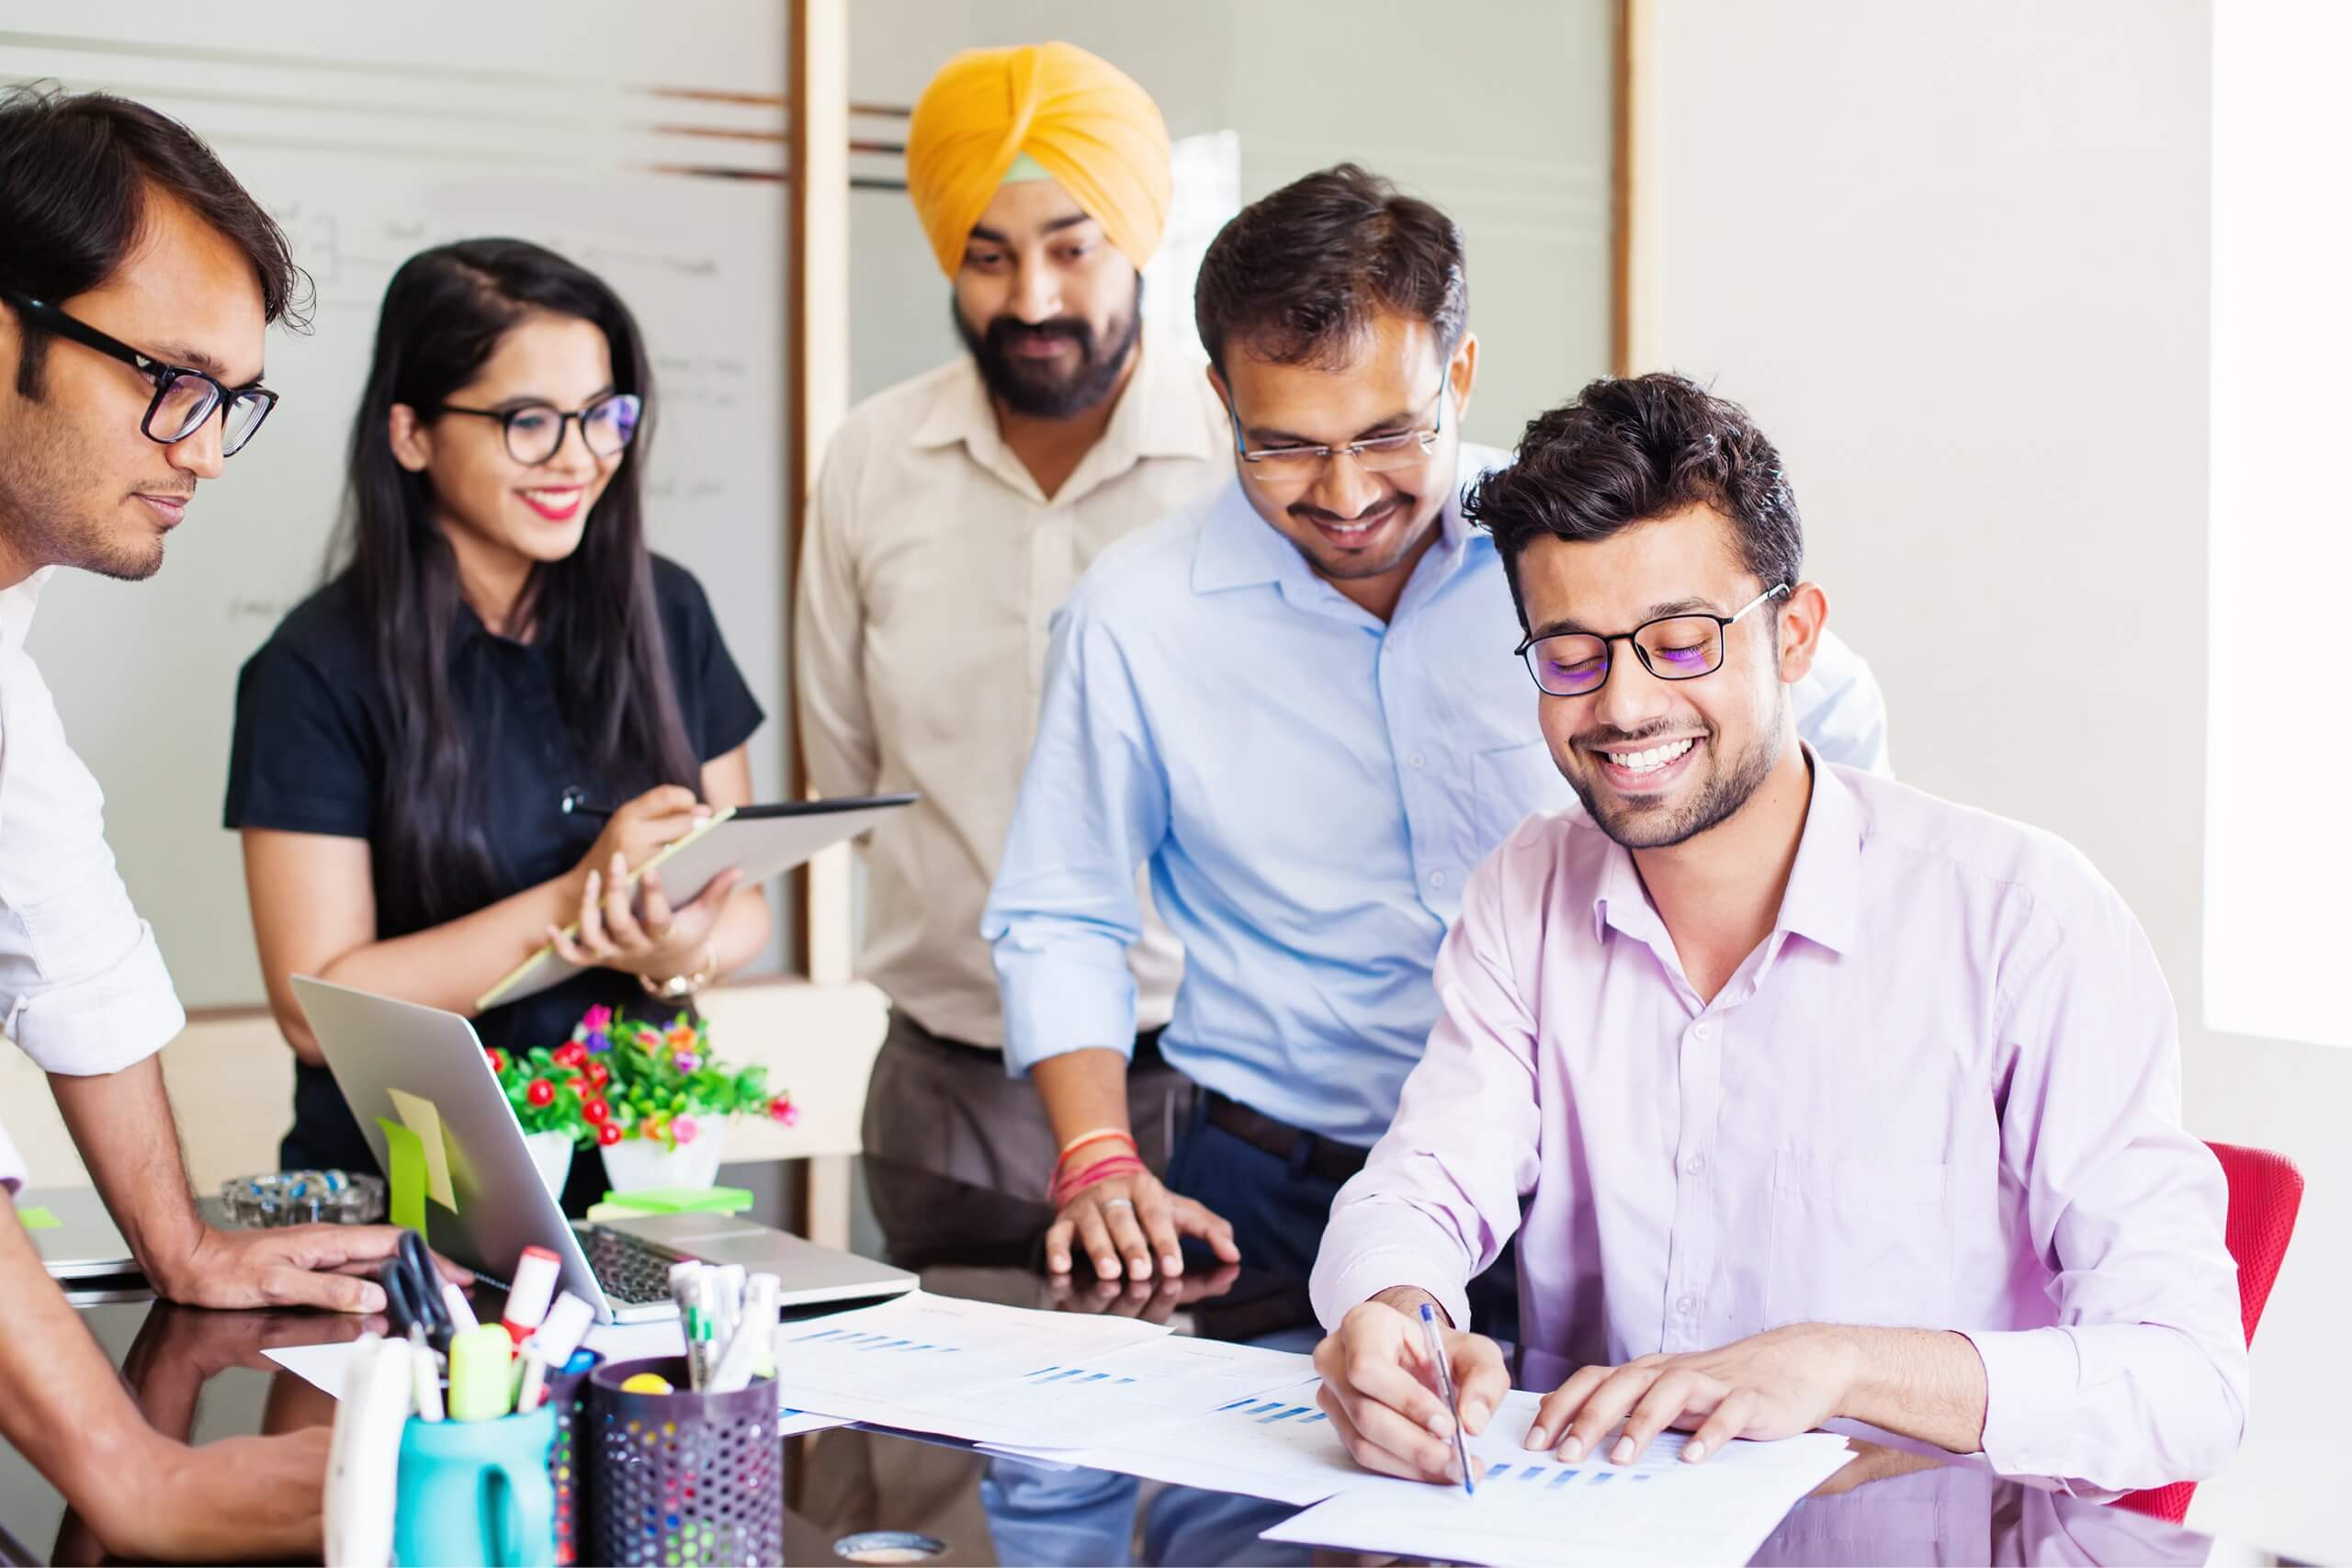men: (1, 58, 297, 618), (1477, 437, 1863, 861), (876, 32, 1177, 455), (1189, 164, 1477, 592)
women: (346, 234, 672, 676)
